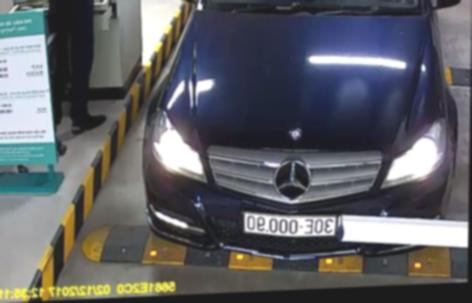License_Plate: (236, 212, 340, 239)
